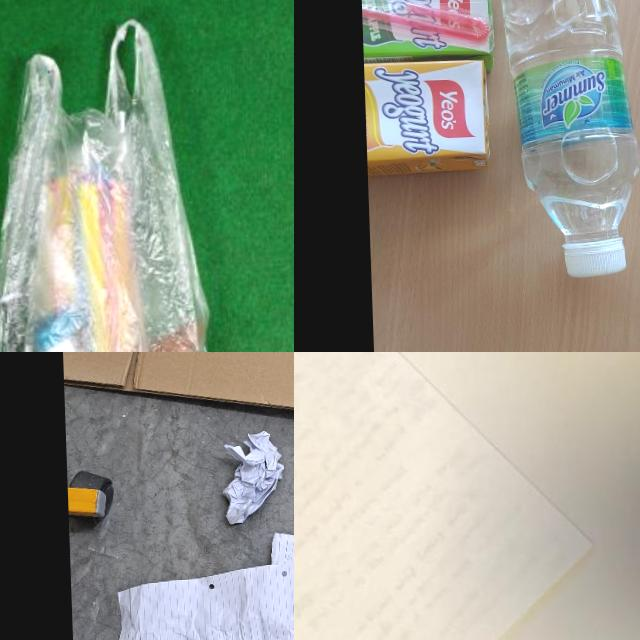garrafa plástica: (494, 0, 640, 245)
papel: (294, 352, 597, 640), (115, 524, 294, 640), (218, 430, 284, 528)
papelão: (59, 352, 294, 424)
sacola plástica: (0, 12, 220, 352)
tampa plástica: (560, 240, 628, 277)
